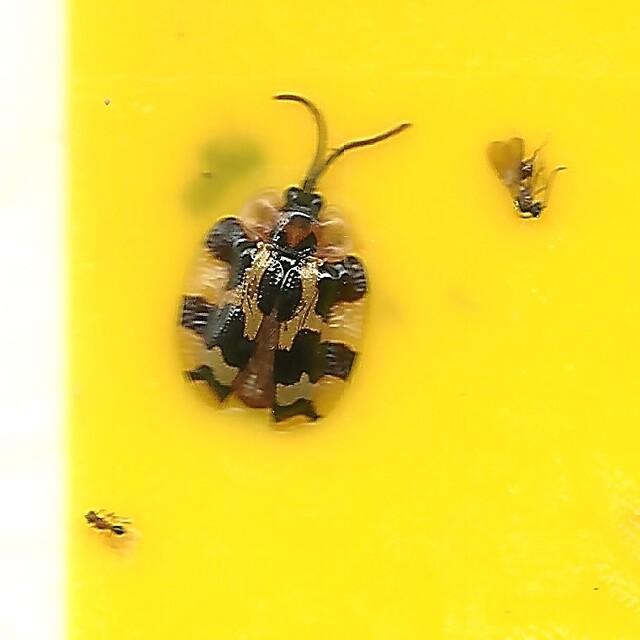Brachycera: (487, 137, 556, 221)
Coleoptera: (176, 91, 410, 428)
Hymenoptera: (84, 507, 134, 549)
